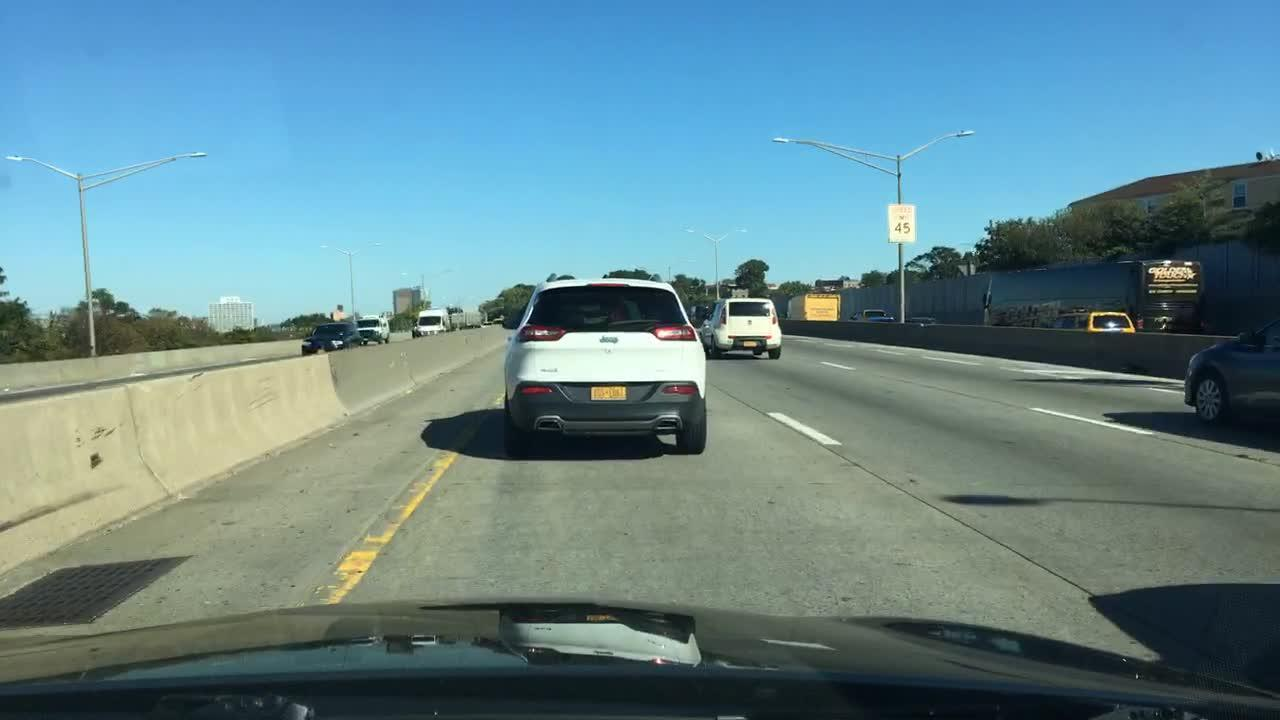jeep: (596, 330, 622, 346)
